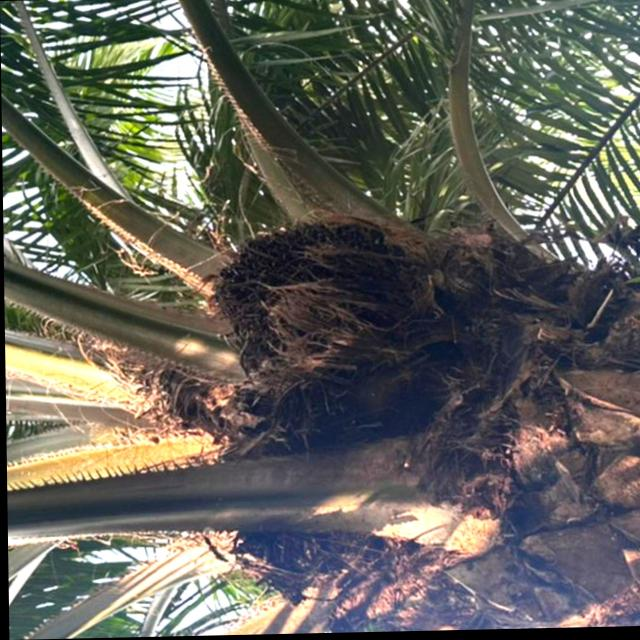almost: (199, 217, 392, 369)
